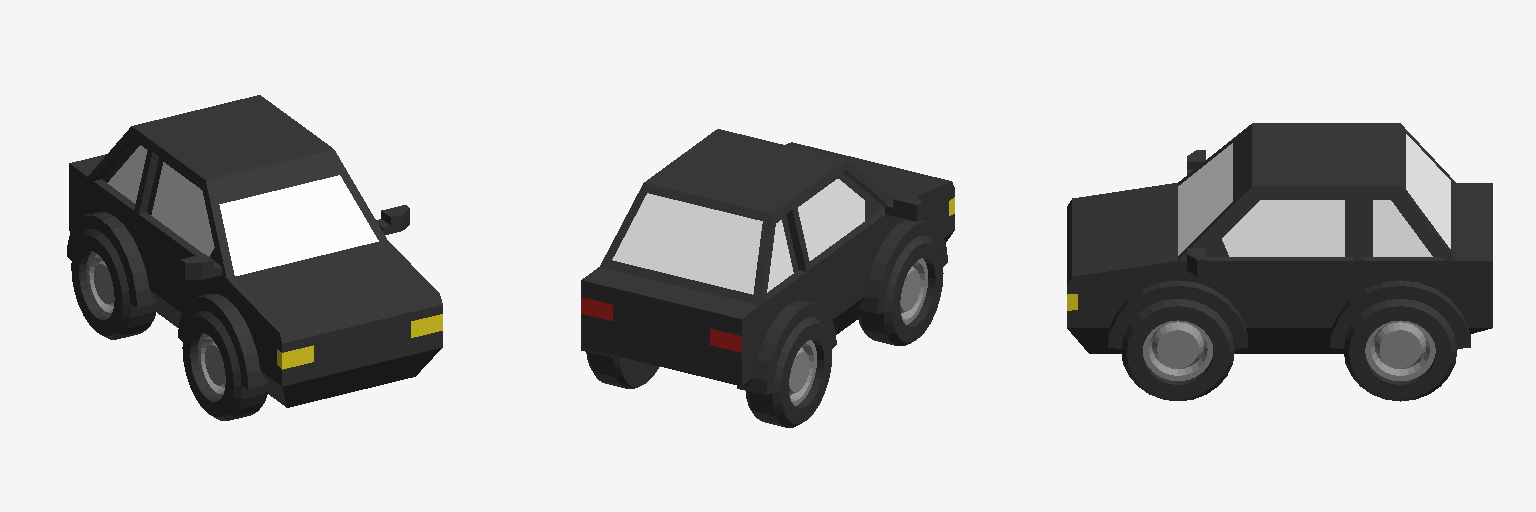
File: car_small_black.obj
3 renders of one model, left to right at view 1: azimuth 30°, elevation 25°; view 2: azimuth 150°, elevation 25°; view 3: azimuth 270°, elevation 25°, orthographic.
Parts seen in each view (by area): view 1: mergedBlocks; view 2: mergedBlocks; view 3: mergedBlocks.
Part boxes in pixels (x1,y1,x2,y2): mergedBlocks: (67, 95, 442, 420); mergedBlocks: (581, 129, 954, 427); mergedBlocks: (1067, 123, 1492, 401).
Size of the model in its own units: 1.4 by 1.21 by 2.3.